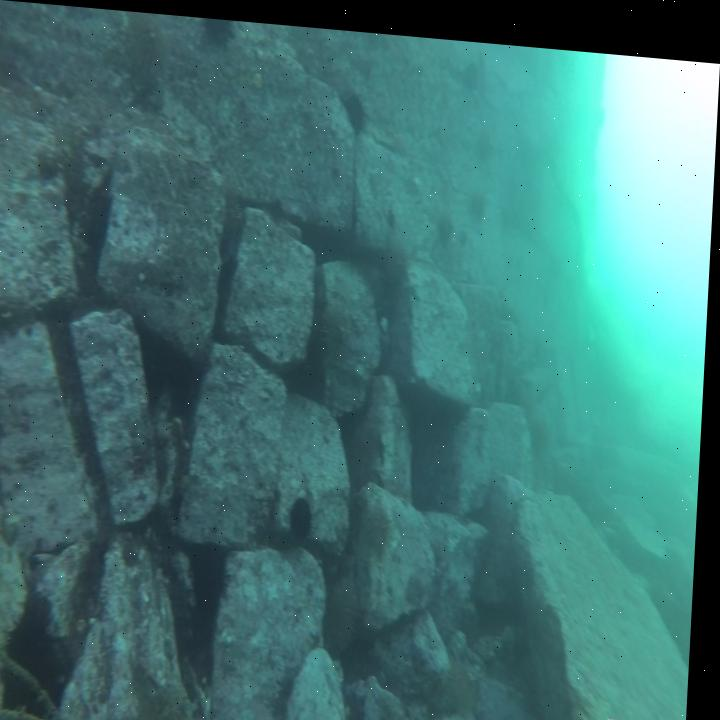echinus: (293, 487, 323, 543), (343, 82, 369, 130)
